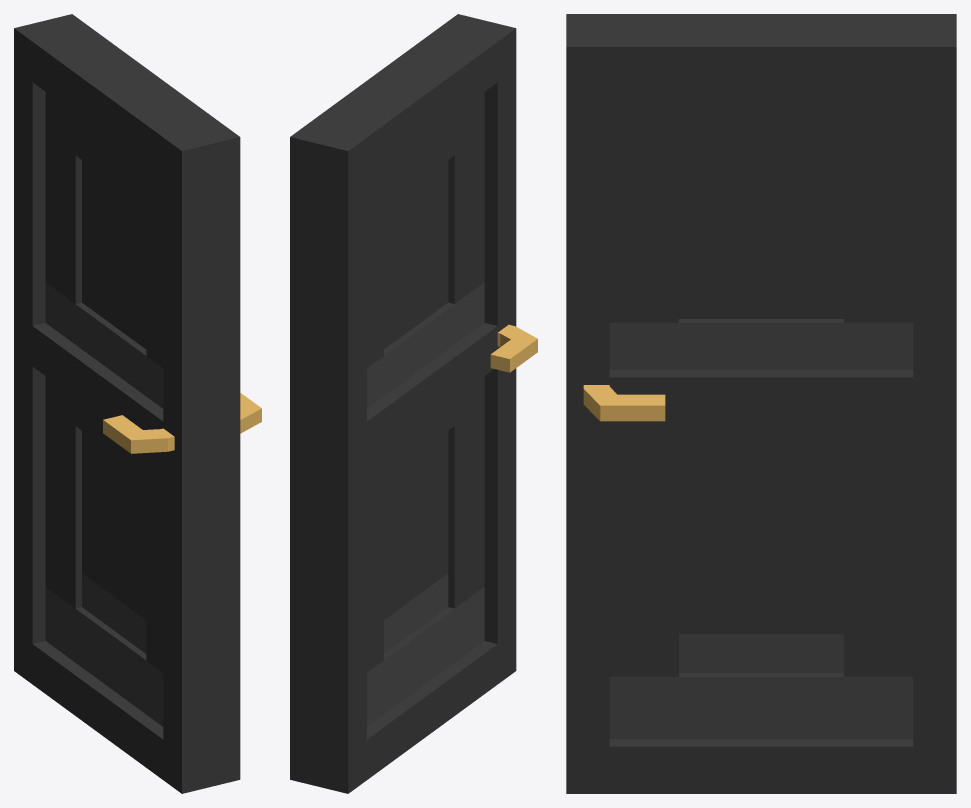
Rendered from exterior door.fbx.
The picture shows the model from 3 angles, left to right: view 1: azimuth 30°, elevation 25°; view 2: azimuth 150°, elevation 25°; view 3: azimuth 270°, elevation 25°; orthographic projection. The views are drawn at different scales.
Visible parts, largest first — view 1: cube, cube_1, cube_2, cube_20, cube_6, cube_7, cube_3, cube_5, cube_8, cube_11, cube_4, cube_10 (+10 smaller); view 2: cube, cube_2, cube_1, cube_6, cube_24, cube_7, cube_3, cube_5, cube_4, cube_8, cube_12, cube_9 (+9 smaller); view 3: cube, cube_24, cube_20, cube_13, cube_18, cube_19, cube_21, cube_22, cube_23, cube_16, cube_17, cube_14 (+5 smaller).
Part boxes in pixels (x1,y1,x2,y2): cube: [33, 18, 220, 789]; cube_1: [163, 134, 194, 793]; cube_2: [14, 25, 45, 684]; cube_20: [209, 123, 240, 782]; cube_6: [45, 282, 201, 513]; cube_7: [45, 587, 201, 790]; cube_3: [32, 38, 175, 177]; cube_5: [32, 641, 163, 779]; cube_8: [27, 23, 201, 242]; cube_11: [45, 404, 81, 608]; cube_4: [32, 323, 163, 461]; cube_10: [45, 134, 81, 303]; cube: [309, 18, 496, 789]; cube_2: [335, 134, 366, 793]; cube_1: [484, 25, 516, 683]; cube_6: [329, 282, 484, 513]; cube_24: [290, 123, 321, 782]; cube_7: [329, 587, 484, 790]; cube_3: [354, 38, 497, 177]; cube_5: [367, 641, 497, 779]; cube_4: [367, 323, 497, 461]; cube_8: [329, 23, 502, 242]; cube_12: [448, 404, 484, 608]; cube_9: [448, 133, 484, 303]; cube: [566, 25, 956, 672]; cube_24: [913, 39, 956, 793]; cube_20: [566, 39, 609, 793]; cube_13: [609, 319, 913, 464]; cube_18: [609, 673, 913, 739]; cube_19: [566, 36, 956, 149]; cube_21: [609, 39, 913, 94]; cube_22: [609, 739, 913, 793]; cube_23: [609, 370, 913, 424]; cube_16: [609, 464, 678, 676]; cube_17: [844, 464, 913, 676]; cube_14: [609, 149, 678, 322].
Bounding box in the file's own units: 12.65 × 59.38 × 28.12.
Materials: 1 (1 with a texture image).
